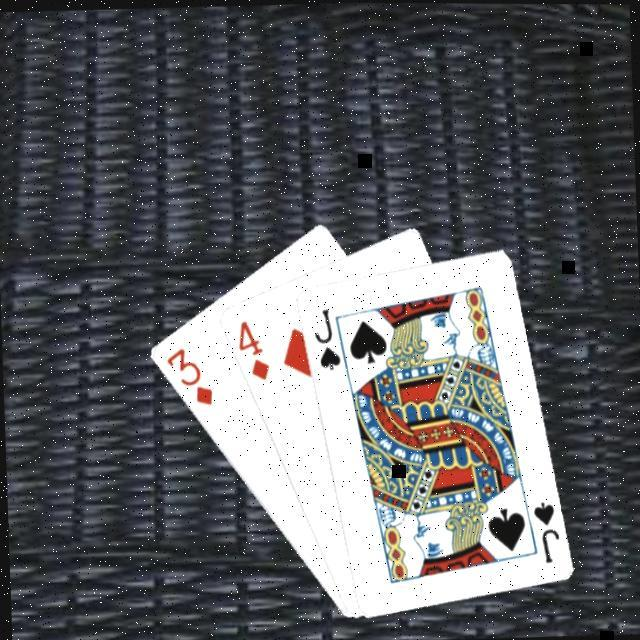3D: (162, 342, 217, 410)
4D: (235, 317, 273, 384)
JS: (310, 305, 344, 374), (530, 497, 564, 566)
